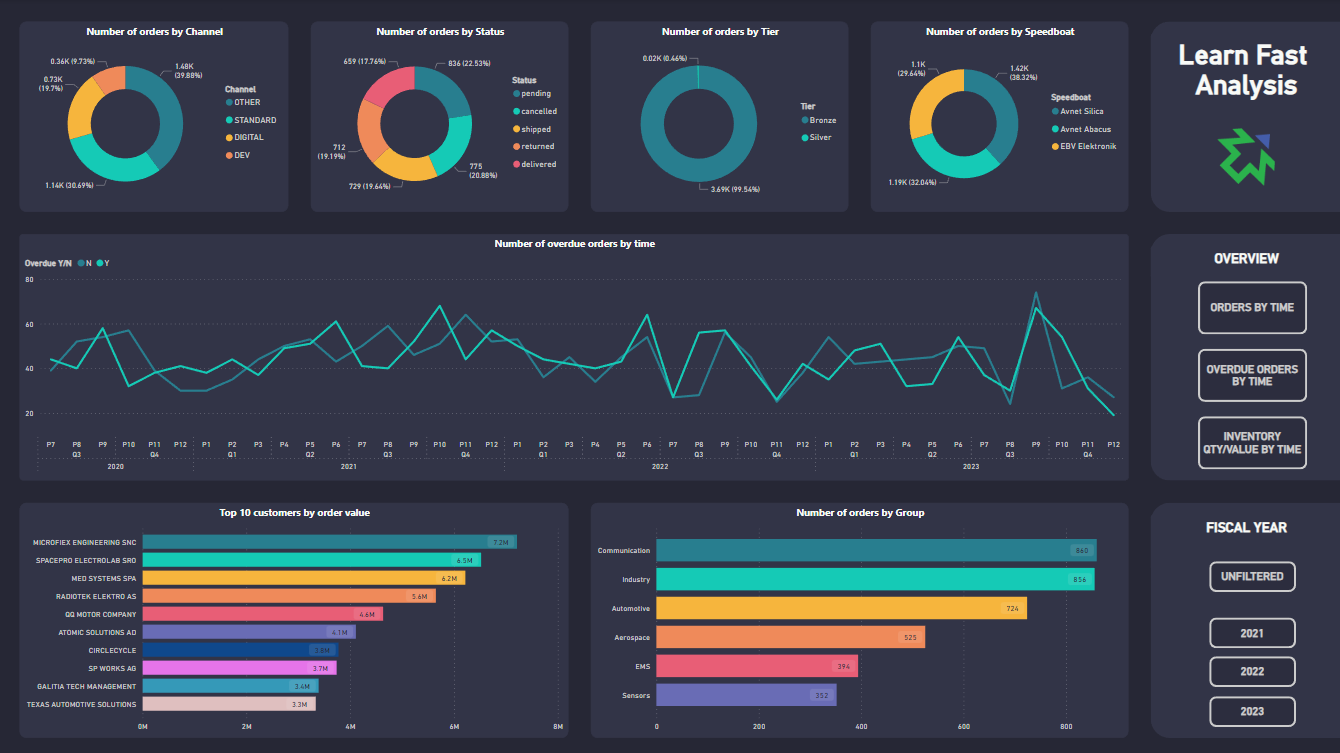

The dashboard page shown, as its layout file describes it:
{"tool":"powerbi","page":{"name":"Page 1","canvas":[1920,1080],"ordinal":0},"visuals":[{"type":"donutChart","fields":{"Category":["Speedboat.boat"],"Y":["CountNonNull(Orders.Order No.)"]},"box":[1248,32,368,272],"z":0},{"type":"donutChart","fields":{"Category":["Status.status"],"Y":["CountNonNull(Orders.Order No.)"]},"box":[448,32,368,272],"z":1000},{"type":"donutChart","fields":{"Category":["Channel.disti_channel"],"Y":["CountNonNull(Orders.Order No.)"]},"box":[32,32,384,272],"z":2000},{"type":"barChart","title":"Number of orders by Group","fields":{"Category":["Group.grptxt"],"Y":["CountNonNull(Orders.Order No.)"],"Series":["Group.grptxt"]},"box":[848,720,768,336],"z":3000},{"type":"donutChart","fields":{"Category":["Orders.CustomerClassification"],"Y":["CountNonNull(Orders.Order No.)"]},"box":[848,32,368,272],"z":4000},{"type":"barChart","title":"Top 10 customers by order value","fields":{"Category":["Customers.customer"],"Y":["Sum(Orders.booked)"],"Series":["Customers.customer"]},"box":[32,720,784,336],"z":5000},{"type":"shape","box":[1648,32,272,272],"z":6000},{"type":"shape","box":[1648,720,272,336],"z":7000},{"type":"shape","box":[1648,336,272,352],"z":8000},{"type":"textbox","box":[1648,48,272,160],"z":9000},{"type":"lineChart","title":"Number of orders by time","fields":{"Y":["CountNonNull(Orders.Order No.)"],"Category":["Orders.FY Hierarchy.FY","Orders.FY Hierarchy.QrtOnly","Orders.FY Hierarchy.PdOnly"]},"box":[32,336,1584,352],"z":10000},{"type":"image","box":[1736,176,96,96],"z":13000},{"type":"textbox","box":[1648,736,272,80],"z":14000},{"type":"actionButton","box":[1728,800,128,48],"z":15000},{"type":"actionButton","box":[1728,880,128,48],"z":16000},{"type":"actionButton","box":[1728,936,128,48],"z":17000},{"type":"actionButton","box":[1728,992,128,48],"z":18000},{"type":"textbox","box":[1648,352,272,48],"z":18001},{"type":"actionButton","box":[1712,400,160,80],"z":18002},{"type":"actionButton","box":[1712,496,160,80],"z":18003},{"type":"actionButton","box":[1712,592,160,80],"z":18004}]}

Visuals, with their boxes in screenshot pixels (x1, y1, x2, y2), scaled from the page's 1920x1080 canvas onto the 1340x753 screenshot:
donutChart - Speedboat.boat x CountNonNull(Orders.Order No.): BBox(871, 22, 1128, 212)
donutChart - Status.status x CountNonNull(Orders.Order No.): BBox(313, 22, 570, 212)
donutChart - Channel.disti_channel x CountNonNull(Orders.Order No.): BBox(22, 22, 290, 212)
"Number of orders by Group" barChart: BBox(592, 502, 1128, 736)
donutChart - Orders.CustomerClassification x CountNonNull(Orders.Order No.): BBox(592, 22, 849, 212)
"Top 10 customers by order value" barChart: BBox(22, 502, 570, 736)
shape: BBox(1150, 22, 1339, 212)
shape: BBox(1150, 502, 1339, 736)
shape: BBox(1150, 234, 1339, 480)
textbox: BBox(1150, 33, 1339, 145)
"Number of orders by time" lineChart: BBox(22, 234, 1128, 480)
image: BBox(1212, 123, 1279, 190)
textbox: BBox(1150, 513, 1339, 569)
actionButton: BBox(1206, 558, 1295, 591)
actionButton: BBox(1206, 614, 1295, 647)
actionButton: BBox(1206, 653, 1295, 686)
actionButton: BBox(1206, 692, 1295, 725)
textbox: BBox(1150, 245, 1339, 279)
actionButton: BBox(1195, 279, 1306, 335)
actionButton: BBox(1195, 346, 1306, 402)
actionButton: BBox(1195, 413, 1306, 469)
